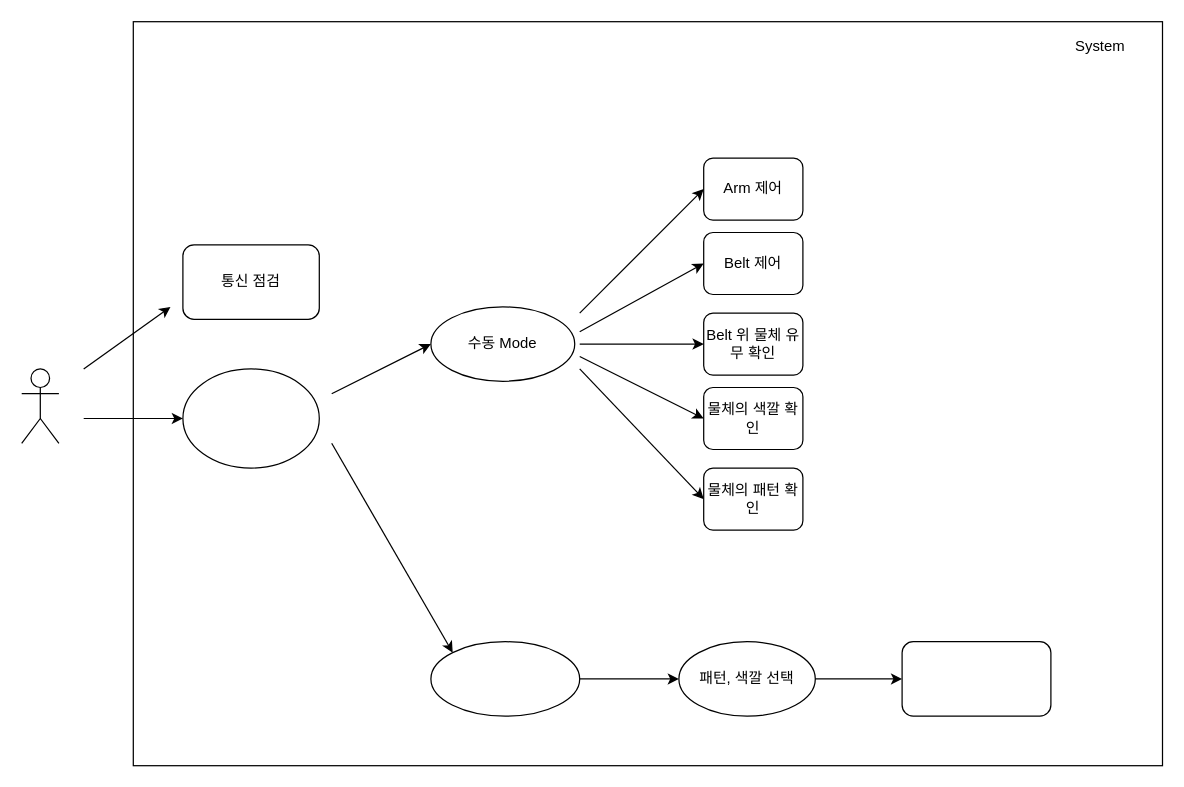
This 1184x787 diagram has some shape labels left out. Each missing label, with the centre of its shape:
Mode 선택: (x=250, y=418)
User: (x=39, y=405)
선택한 패턴과 색깔의 물체를 자동으로 선별: (x=976, y=678)
자동 Mode: (x=505, y=678)
